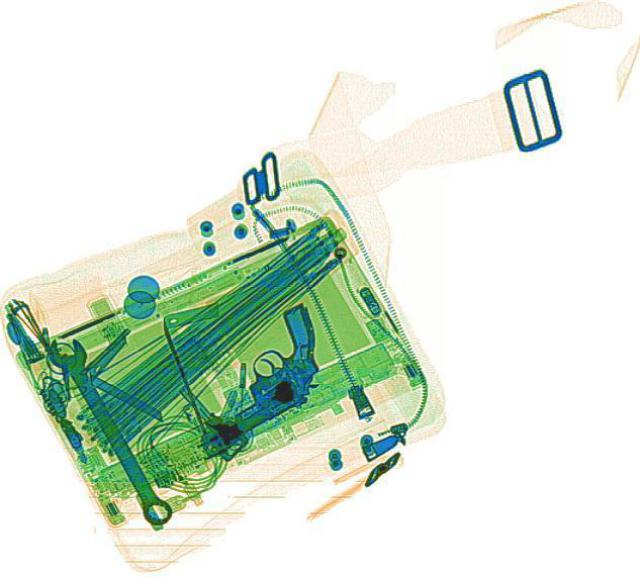Gun: (150, 297, 358, 454)
Wrench: (39, 329, 182, 530)
